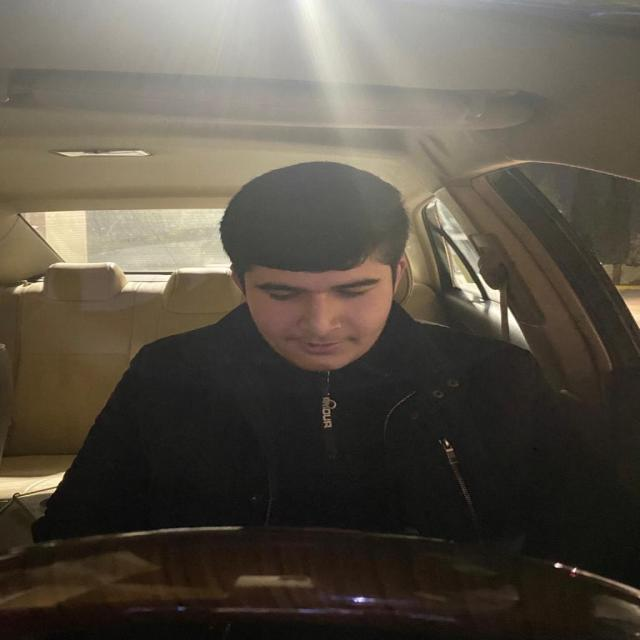drowsy: (213, 157, 422, 379)
